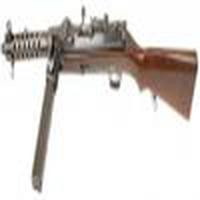gun: (1, 15, 200, 130)
